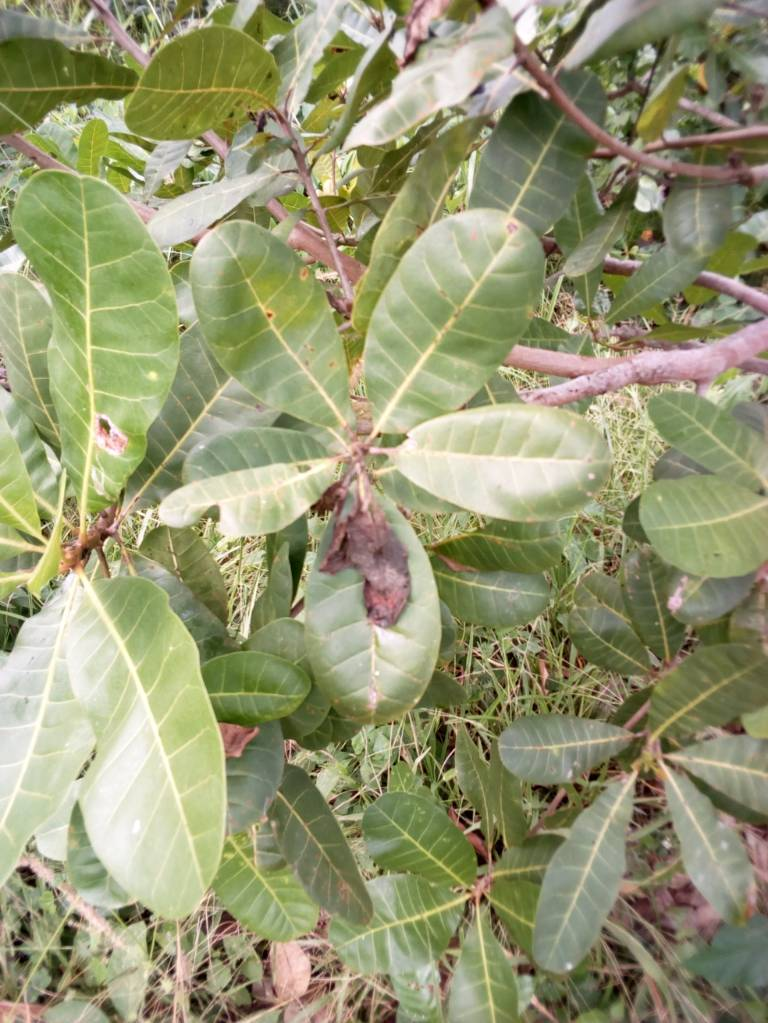Dessèchement des bourgeons: (329, 457, 411, 624)
